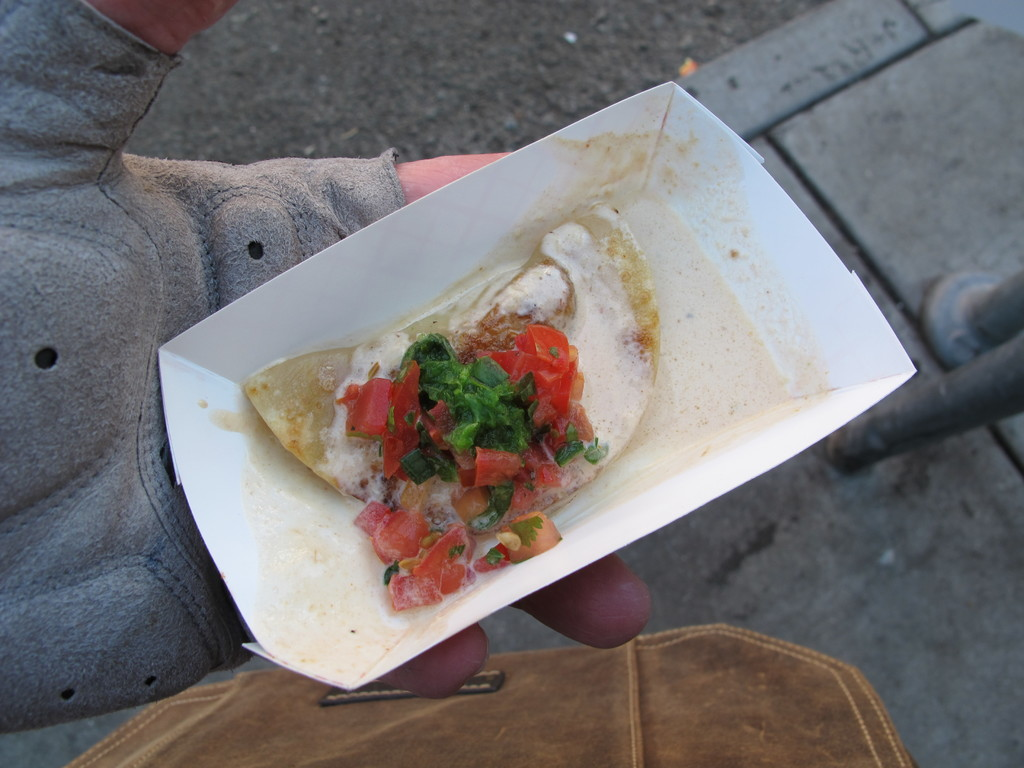taco: (273, 235, 632, 640)
